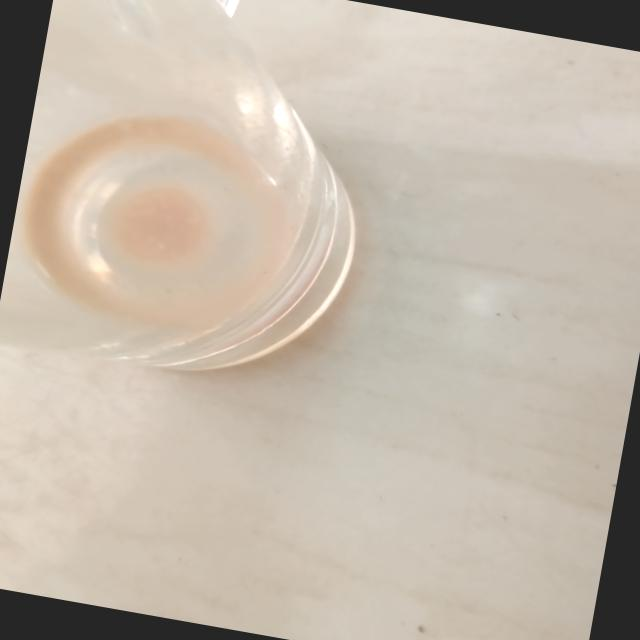glass-VX4N: (0, 0, 378, 405)
